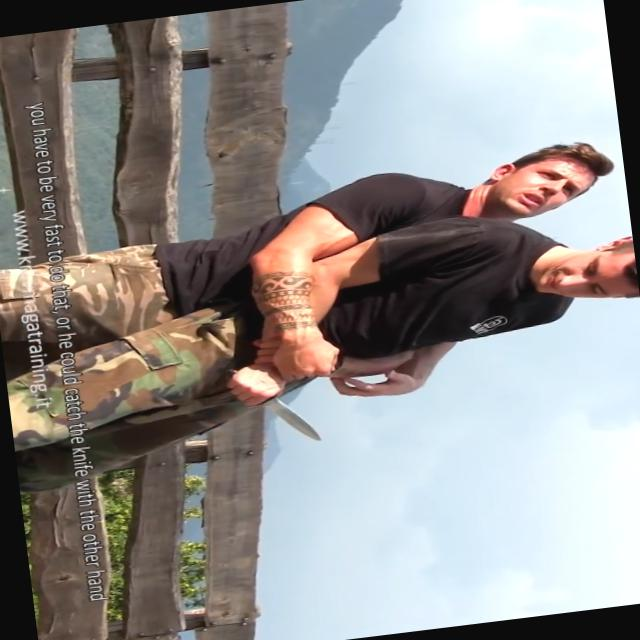knife: (216, 354, 328, 454)
